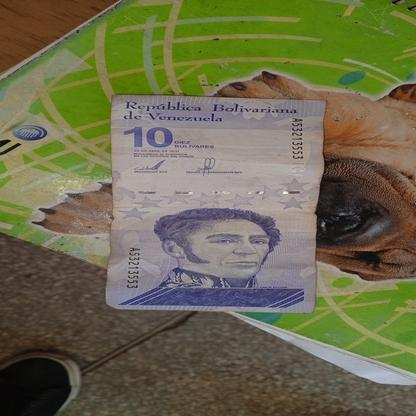ten-front-vef: (105, 95, 327, 314)
